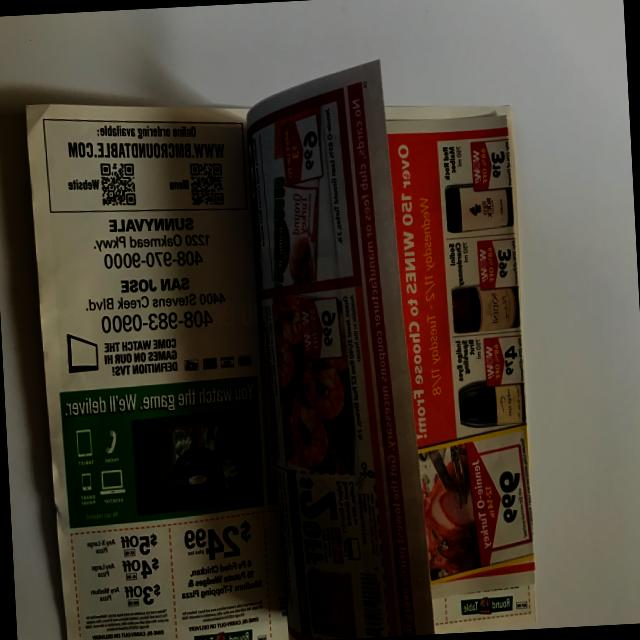Paper: (27, 43, 542, 640)
